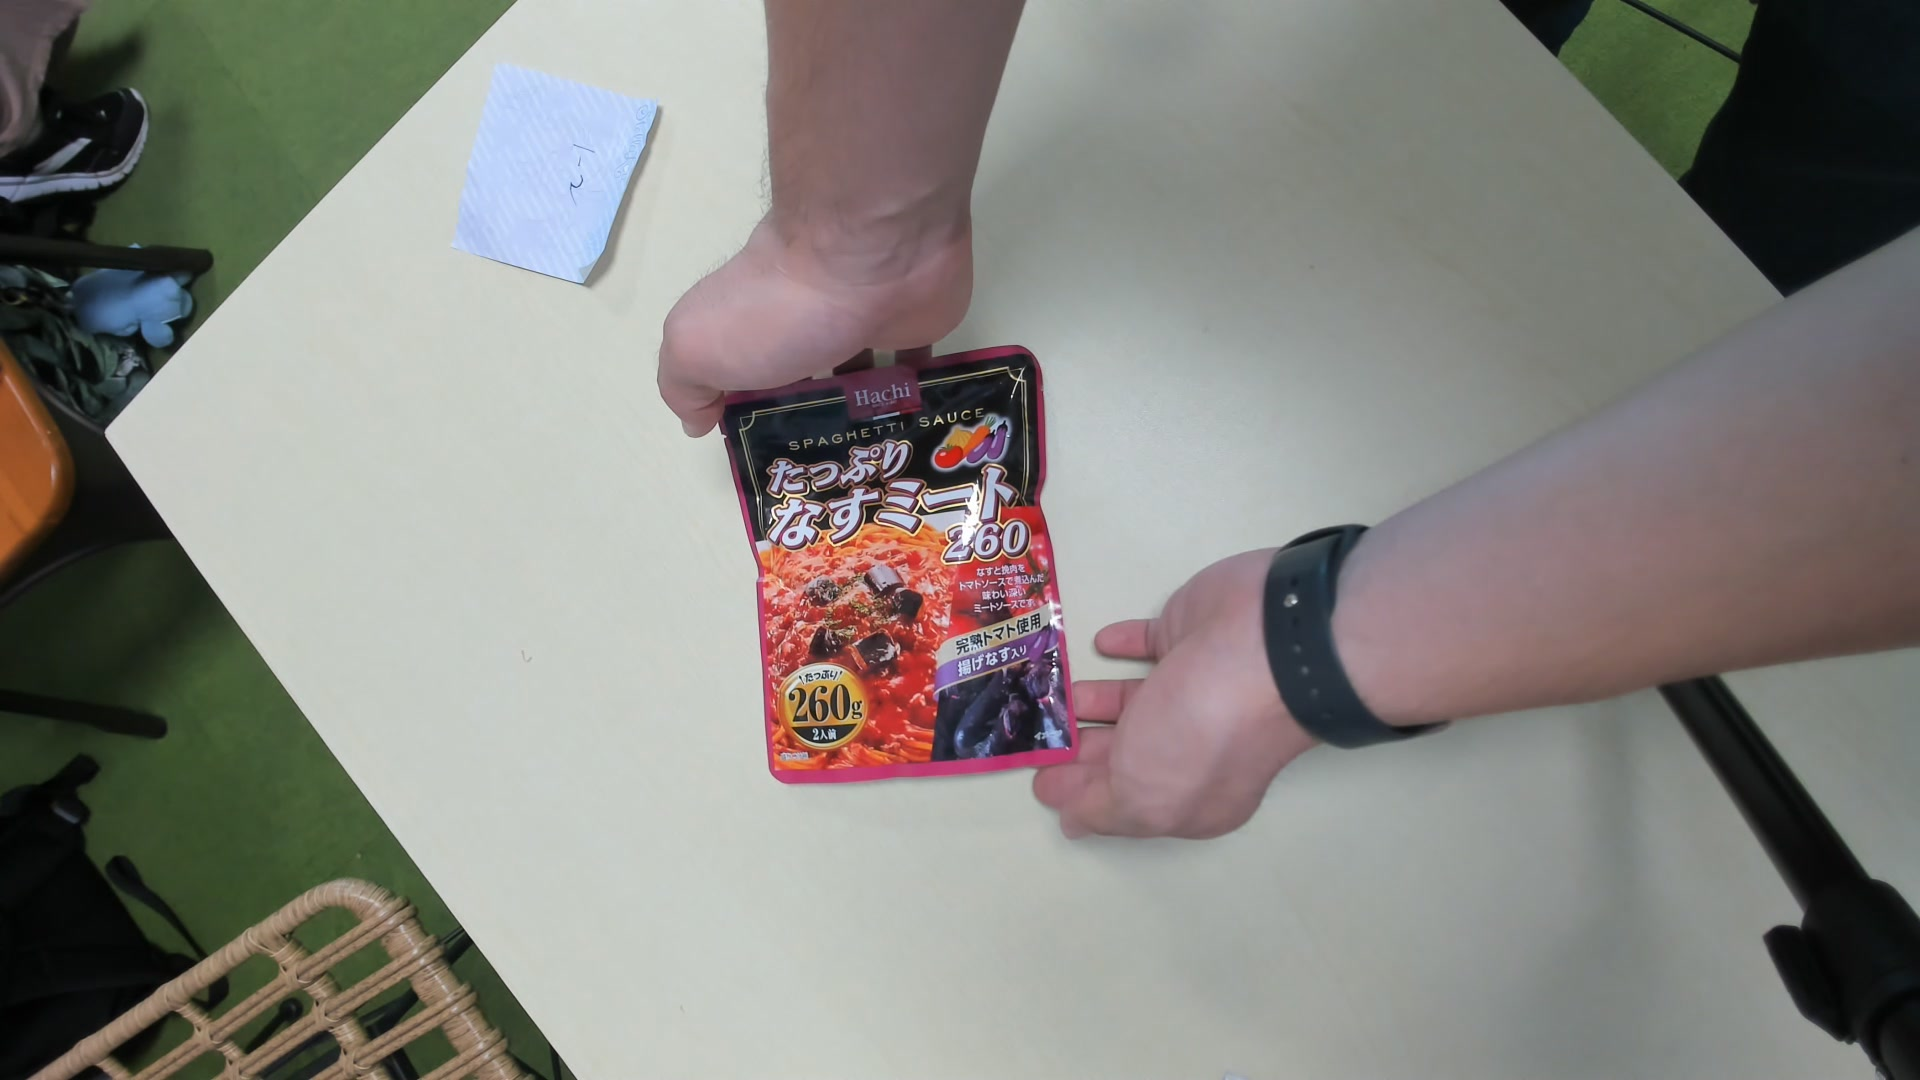PastaSauce_200-299g_NonHalal_NonHealthy: (717, 363, 1083, 789)
